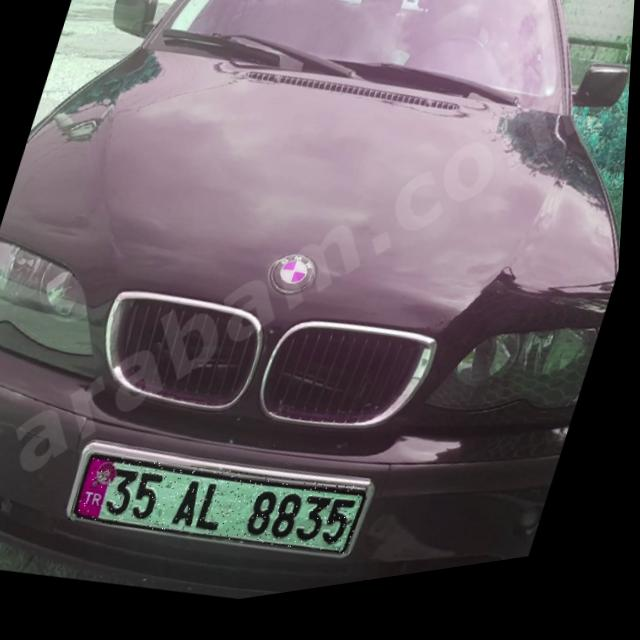license_plate: (71, 424, 378, 599)
